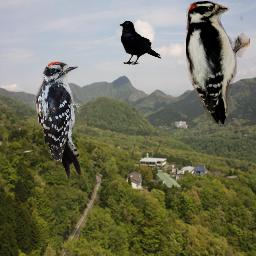Crow: (118, 20, 163, 65)
Woodpecker: (186, 1, 250, 124), (34, 61, 81, 179)
